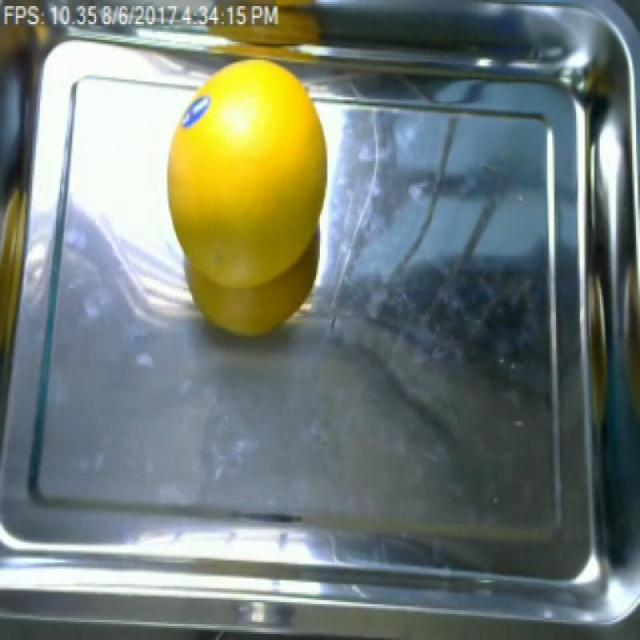Fruit: (156, 52, 335, 346)
